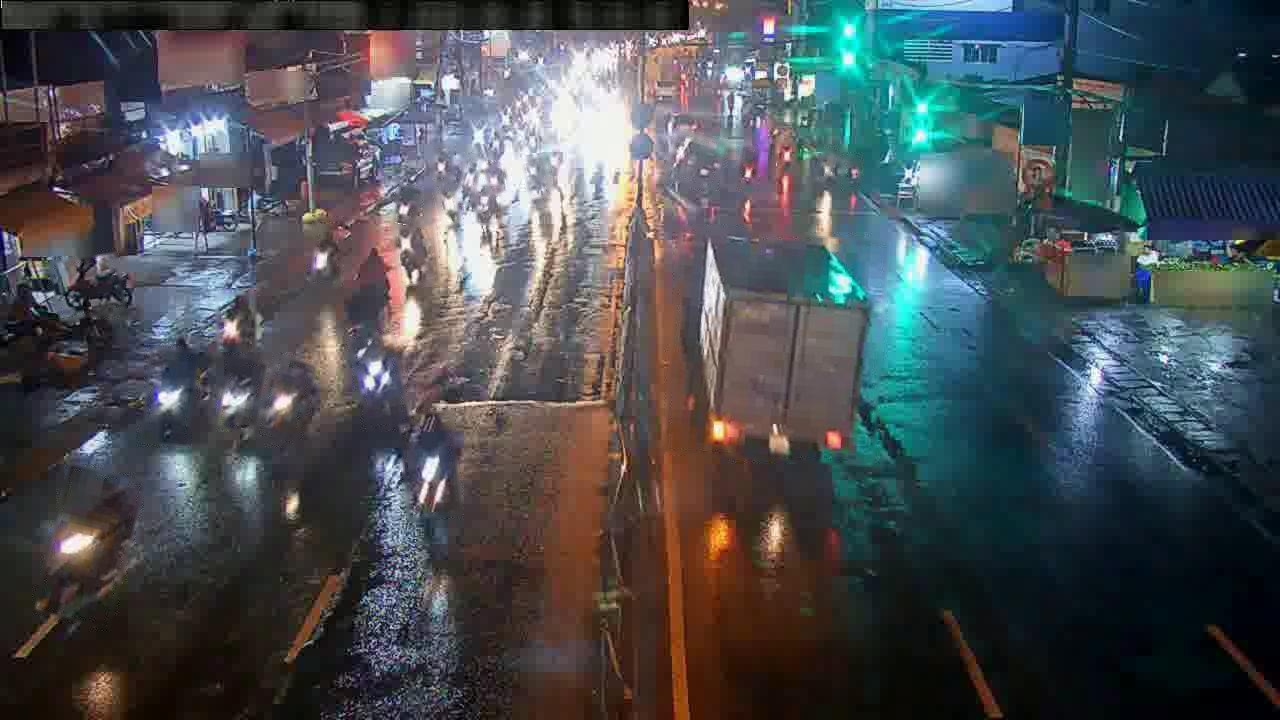Car: (670, 133, 721, 188), (1072, 241, 1096, 254)
Motorcyclist: (39, 478, 137, 615), (404, 410, 461, 513), (151, 339, 199, 439), (353, 335, 405, 424), (260, 360, 316, 441), (64, 259, 132, 313), (219, 359, 263, 429), (220, 295, 261, 348), (399, 228, 430, 286), (312, 222, 341, 281), (526, 154, 548, 200), (396, 189, 420, 227), (438, 182, 459, 225), (476, 188, 496, 230), (459, 159, 478, 202), (816, 153, 837, 184), (739, 149, 757, 184), (488, 165, 508, 192), (842, 160, 860, 190), (435, 147, 452, 174), (776, 143, 791, 168)
Truck: (696, 235, 870, 458)
